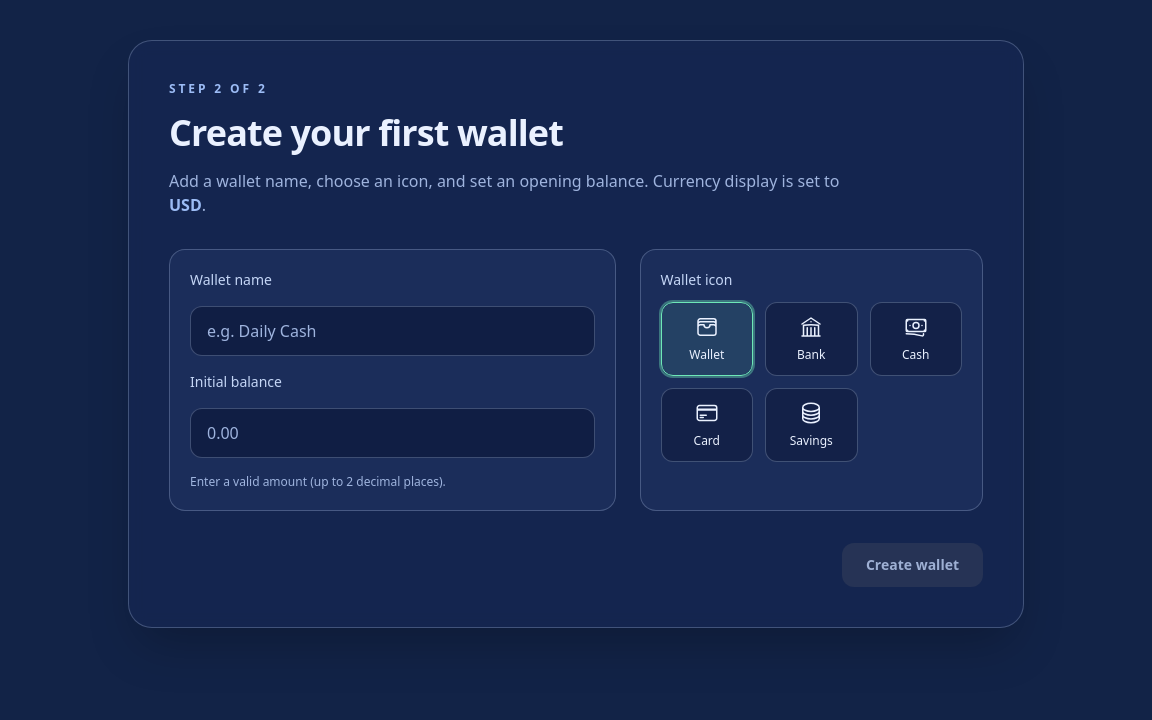
it: FirstWalletOnboardingPage › shows an error toast when wallet creation fails
The image size is (1152, 720).
Type "Daily Cash" into the field labelled "Wallet name" at (392, 331), box [190,306,594,356]
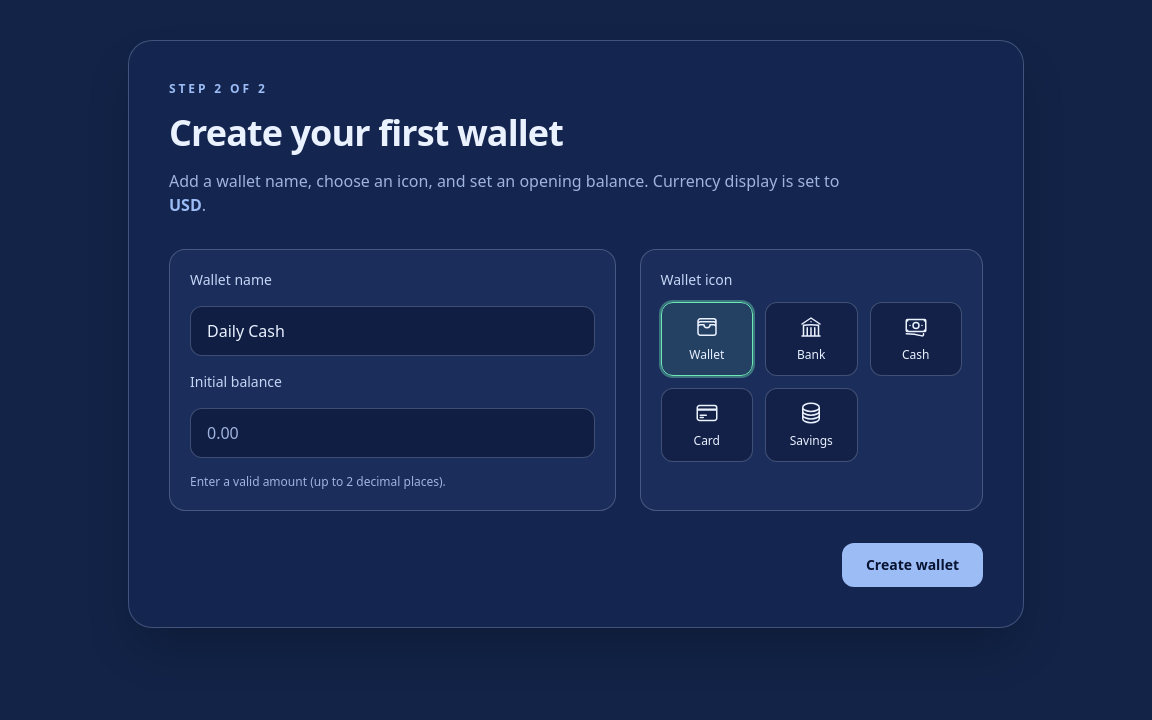
Type "1000.50" into the field labelled "Initial balance" at (392, 433), box [190,408,594,458]
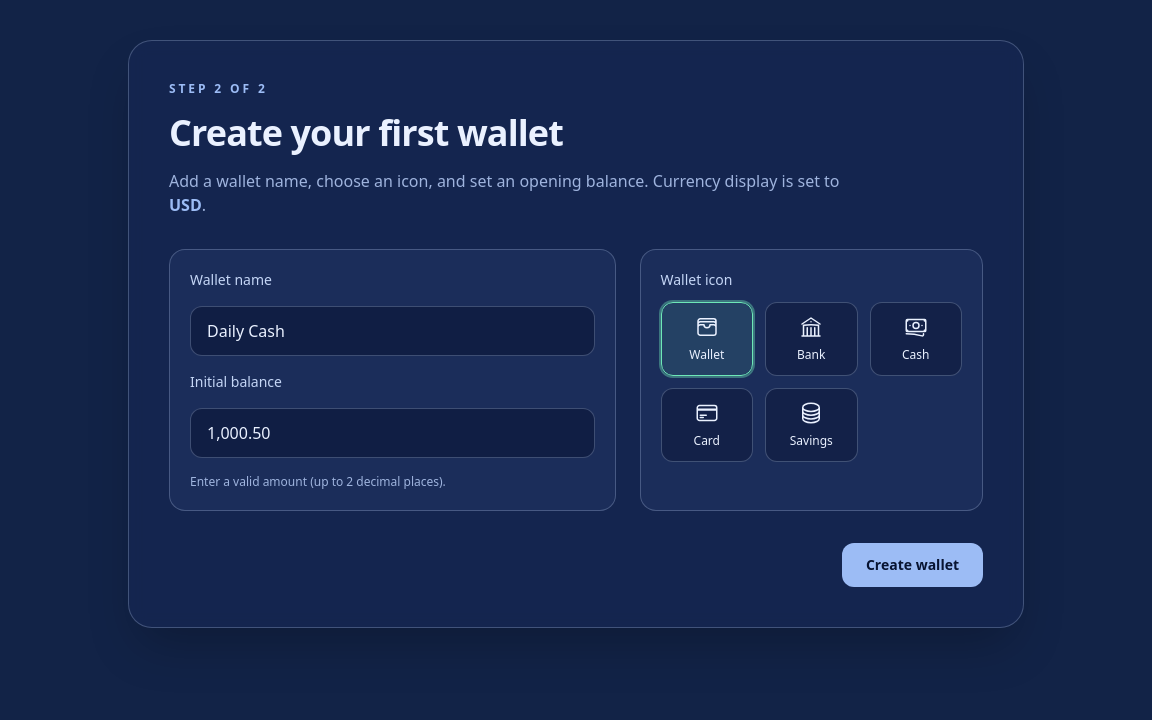
Click the button "Create wallet" at (912, 565), box [842,543,983,587]
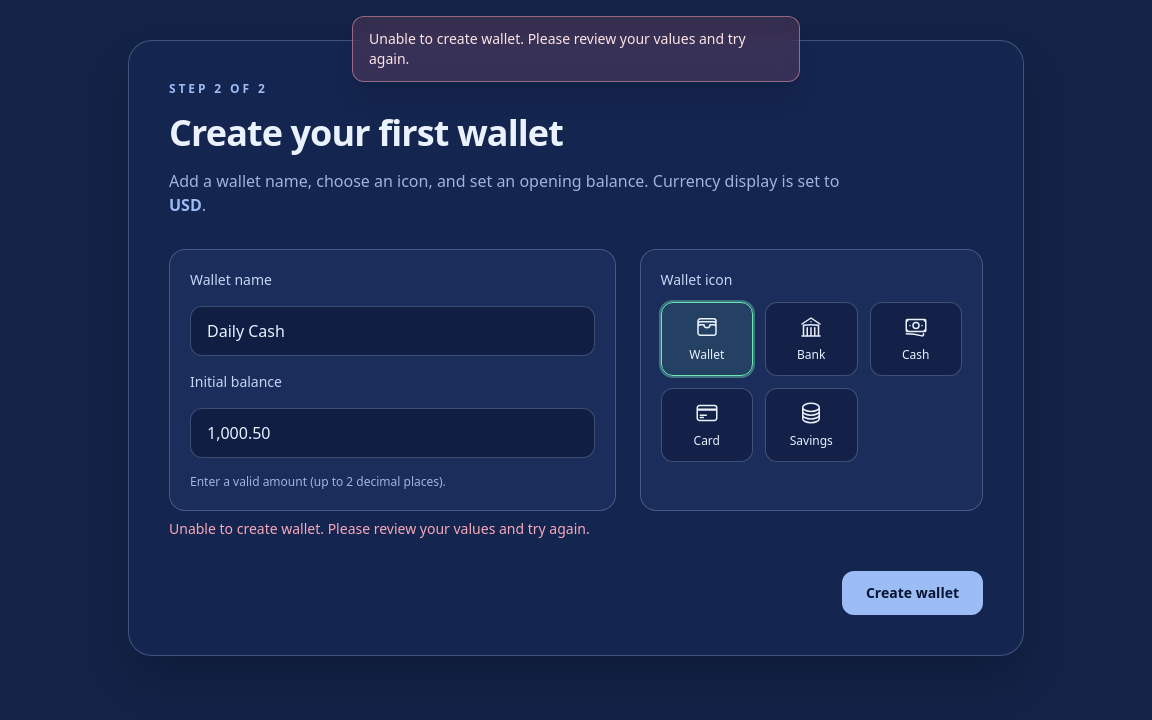
Result: the message reads "Unable to create wallet. Please review your values and try again." at [369,29,746,68]
